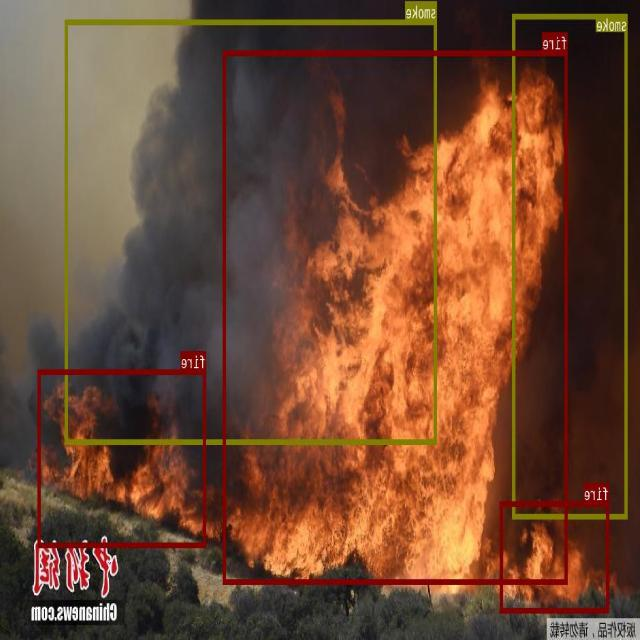fire: (224, 50, 568, 583), (38, 368, 206, 546), (500, 501, 610, 612)
smoke: (65, 19, 438, 443), (513, 14, 628, 518)
